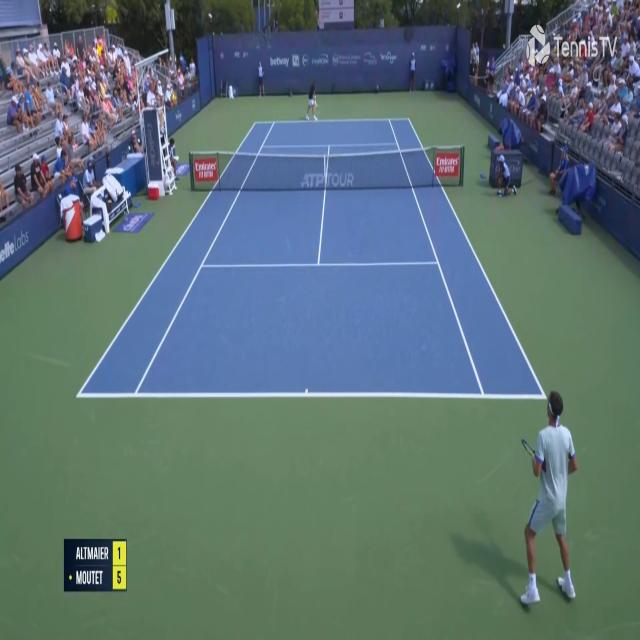tennis-player: (516, 384, 582, 609), (304, 76, 320, 122)
